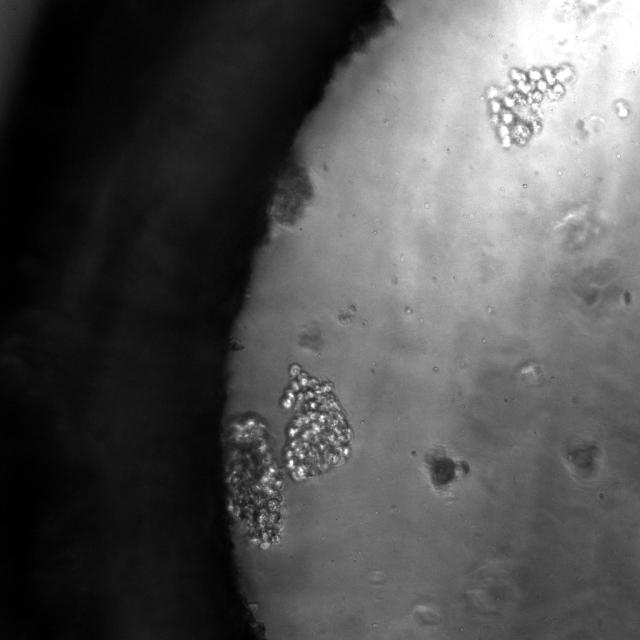organoid: (281, 363, 352, 482), (227, 412, 283, 548), (486, 64, 574, 148), (268, 155, 313, 225), (425, 447, 470, 490), (562, 436, 603, 483)
